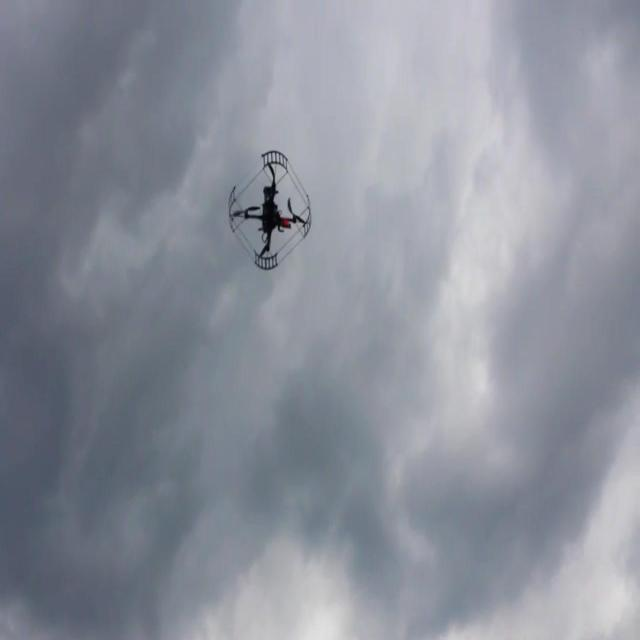drone: (226, 150, 313, 272)
